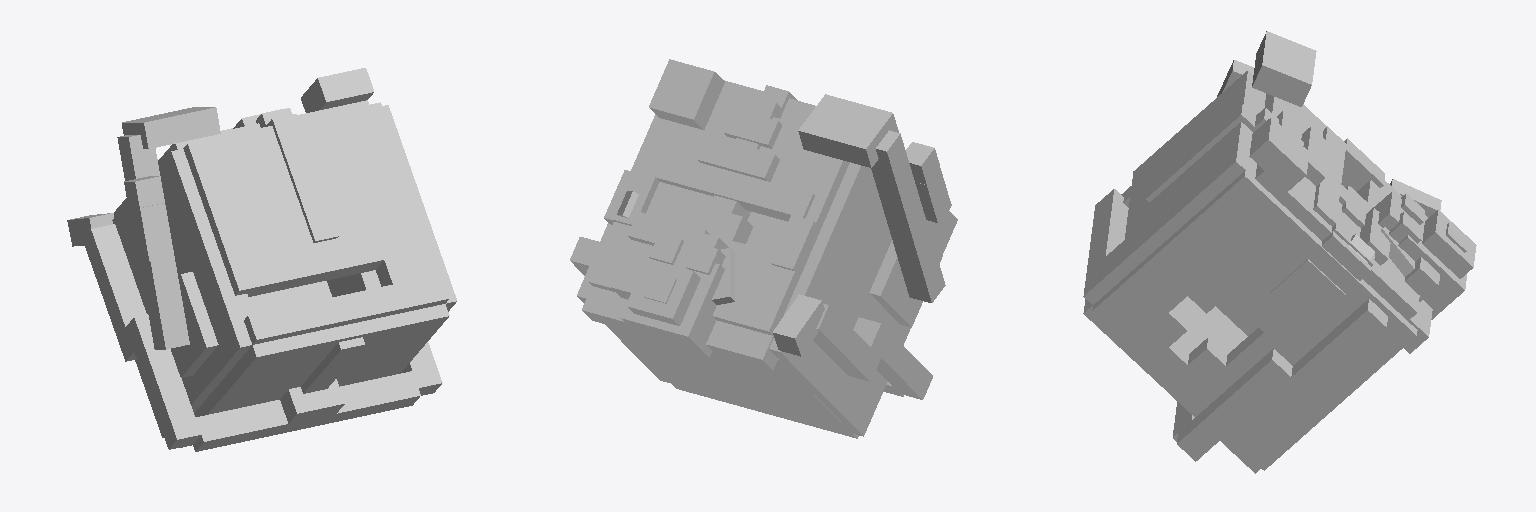
The model's file is t45_helmet_broken.obj.
3 renders of one model, left to right at view 1: azimuth 30°, elevation 25°; view 2: azimuth 150°, elevation 25°; view 3: azimuth 270°, elevation 25°, orthographic.
Parts seen in each view (by area): view 1: Head; view 2: Head; view 3: Head.
Boxes of the visible parts, box(x1,y1,x2,y2) form: Head: box(67, 68, 456, 451); Head: box(570, 59, 957, 438); Head: box(1083, 31, 1476, 473).
Size of the model in its own units: 0.7745 by 0.853 by 0.9085.